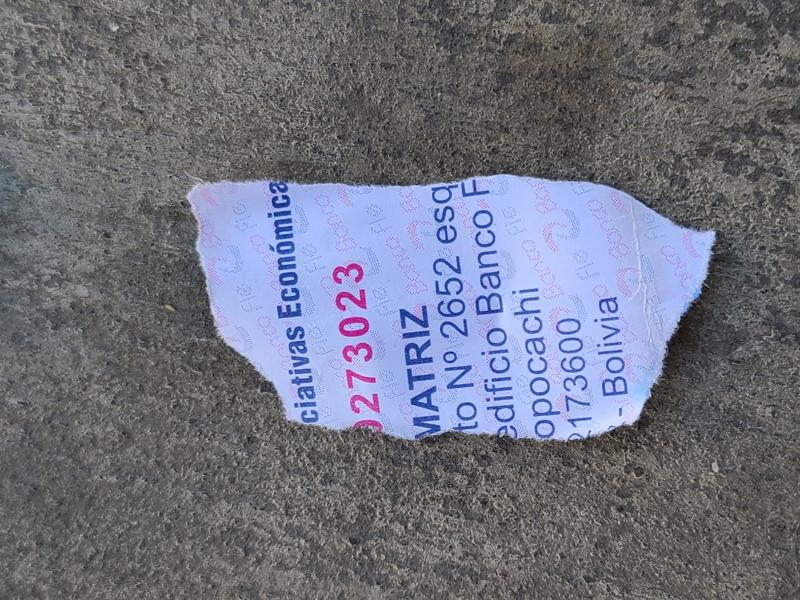papel: (185, 175, 718, 443)
